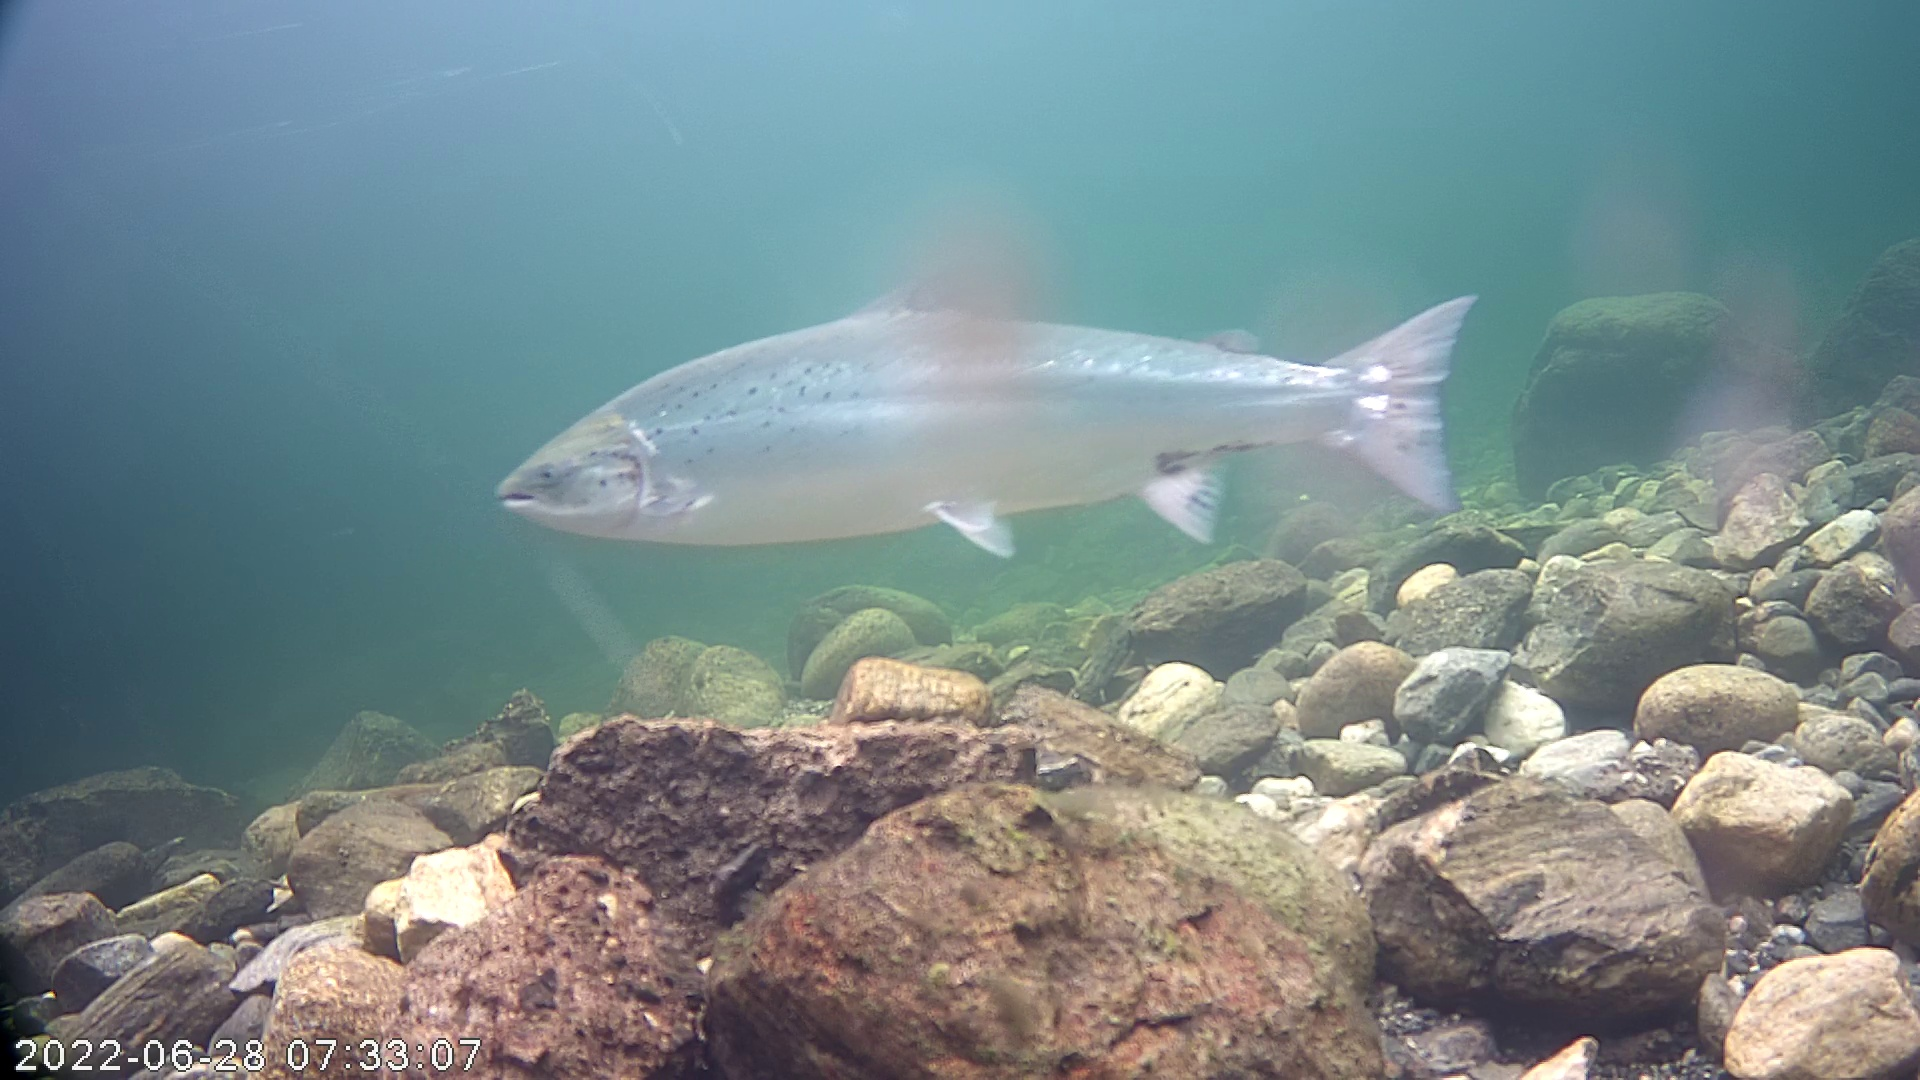salmon: (483, 141, 1509, 622)
